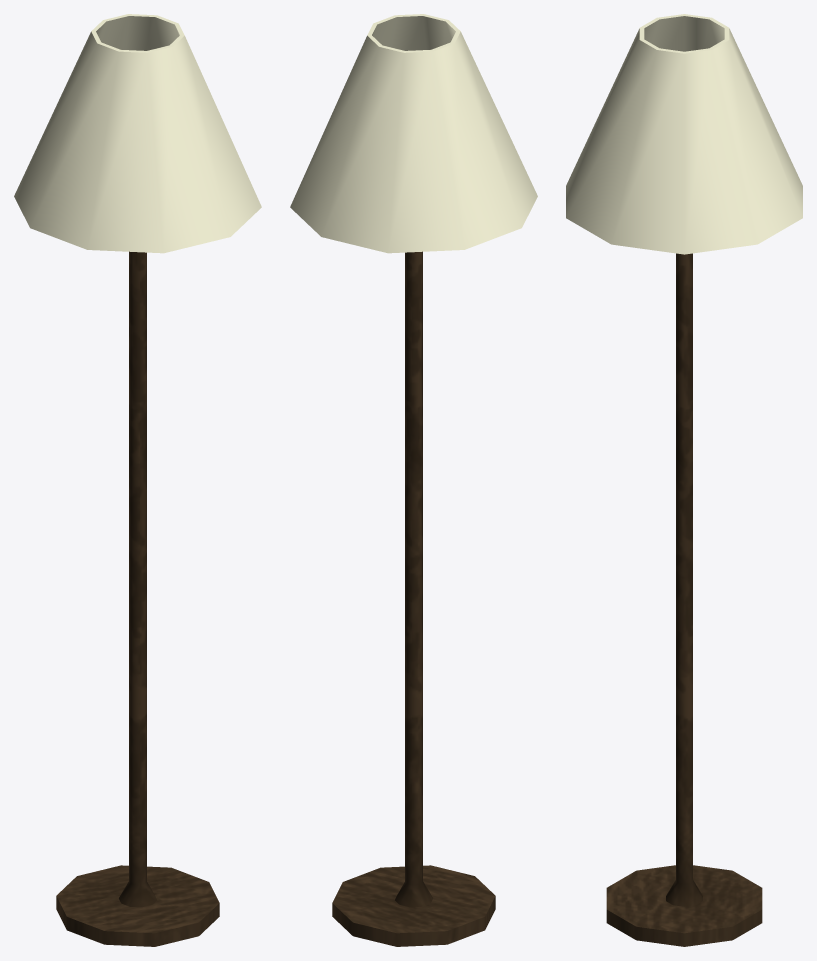
Rendered from Prop_FloorLamp_01.fbx.
3 views of the same model, side by side, from view 1: azimuth 30°, elevation 25°; view 2: azimuth 150°, elevation 25°; view 3: azimuth 270°, elevation 25° (orthographic).
Parts seen in each view (by area): view 1: Prop_FloorLamp_01; view 2: Prop_FloorLamp_01; view 3: Prop_FloorLamp_01.
Boxes of the visible parts, bbox=[...] form: Prop_FloorLamp_01: bbox=[14, 14, 261, 946]; Prop_FloorLamp_01: bbox=[290, 14, 537, 946]; Prop_FloorLamp_01: bbox=[566, 14, 802, 946].
Bounding box in the file's own units: 39.5 × 154 × 37.57.
